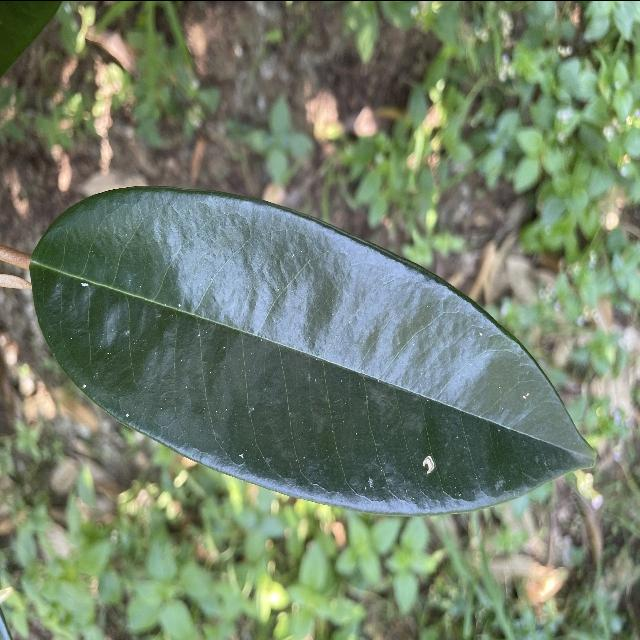No Disease: (23, 181, 611, 519)
